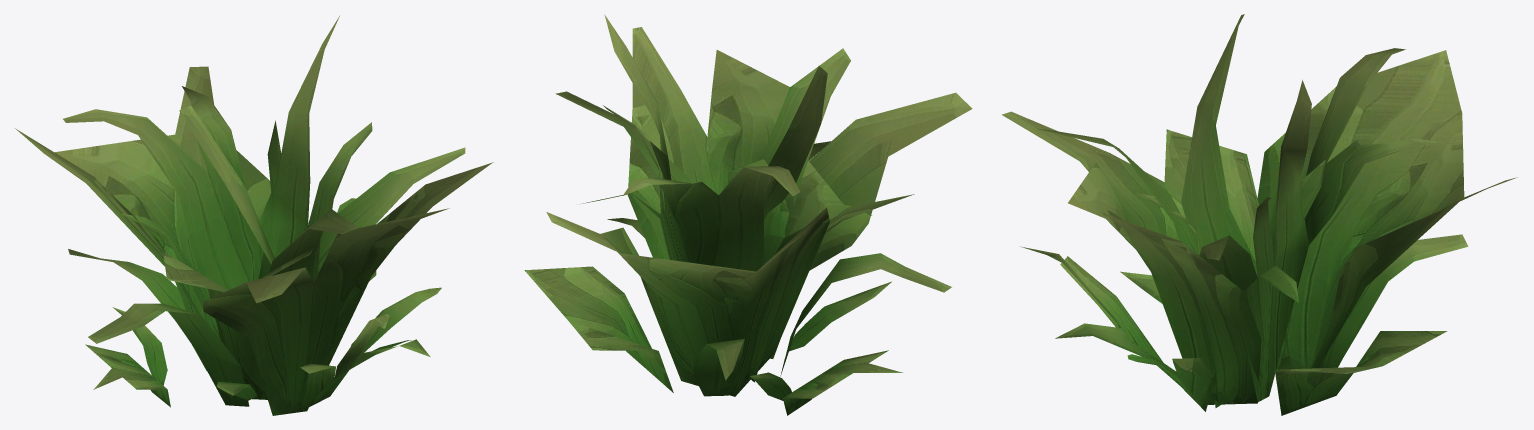
The model's file is Grass1.fbx.
The picture shows the model from 3 angles, left to right: view 1: azimuth 30°, elevation 25°; view 2: azimuth 150°, elevation 25°; view 3: azimuth 270°, elevation 25°; orthographic projection. The views are drawn at different scales.
Visible parts, largest first — view 1: node_id35; view 2: node_id35; view 3: node_id35.
Boxes of the visible parts, x1=… form: node_id35: x1=15, y1=16, x2=493, y2=415; node_id35: x1=524, y1=14, x2=972, y2=415; node_id35: x1=1002, y1=14, x2=1517, y2=415.
Size of the model in its own units: 0.512 by 0.4452 by 0.5676.
Materials: 1 (1 with a texture image).
